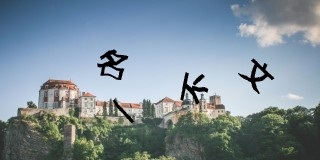一: (110, 99, 134, 125)
不: (180, 70, 209, 107)
名: (97, 49, 129, 82)
文: (237, 57, 275, 94)
